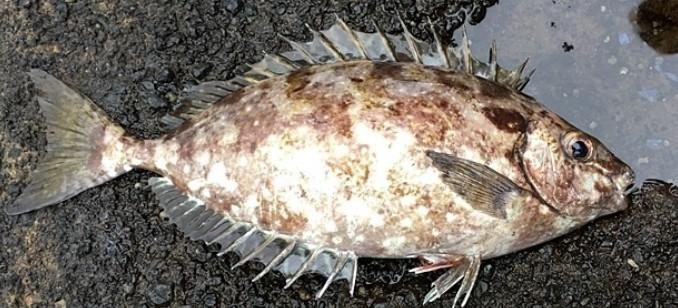fish: (6, 14, 634, 306)
